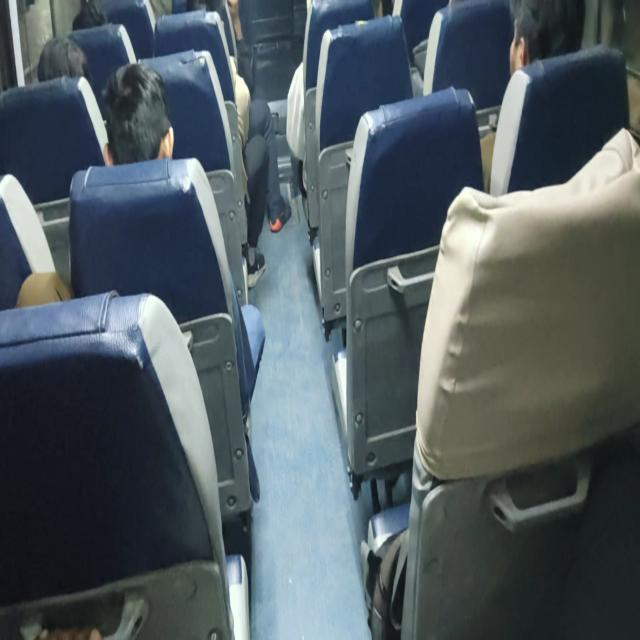person: (107, 58, 179, 155), (501, 0, 582, 77), (34, 34, 92, 89)
